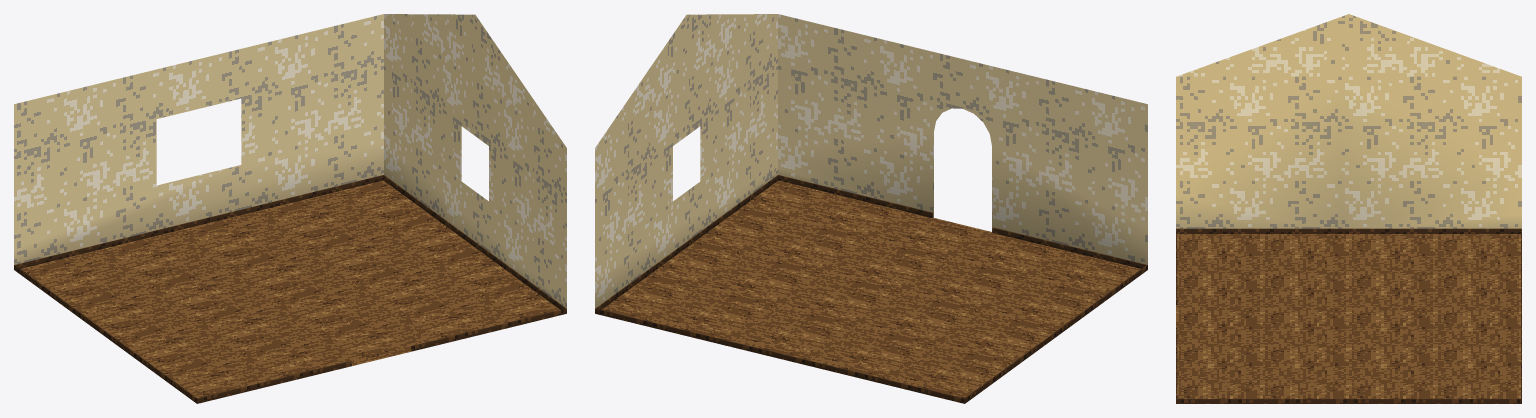
File: arch.room_shell.glb
The picture shows the model from 3 angles, left to right: view 1: azimuth 30°, elevation 25°; view 2: azimuth 150°, elevation 25°; view 3: azimuth 270°, elevation 25°; orthographic projection. The views are drawn at different scales.
Visible parts, largest first — view 1: kit_shell_walls, kit_shell_floor, kit_trim; view 2: kit_shell_walls, kit_shell_floor, kit_trim; view 3: kit_shell_walls, kit_shell_floor, kit_trim.
Boxes of the visible parts, left/top/right/bottom form: kit_shell_walls: left=14, top=14, right=566, bottom=308; kit_shell_floor: left=21, top=180, right=559, bottom=398; kit_trim: left=14, top=175, right=566, bottom=403; kit_shell_walls: left=595, top=14, right=1147, bottom=308; kit_shell_floor: left=602, top=180, right=1140, bottom=398; kit_trim: left=595, top=175, right=1147, bottom=403; kit_shell_walls: left=1176, top=14, right=1521, bottom=228; kit_shell_floor: left=1176, top=234, right=1520, bottom=398; kit_trim: left=1176, top=228, right=1521, bottom=403.
Bounding box in the file's own units: 7 × 4.2 × 6.
Materials: 3 (3 with a texture image).
